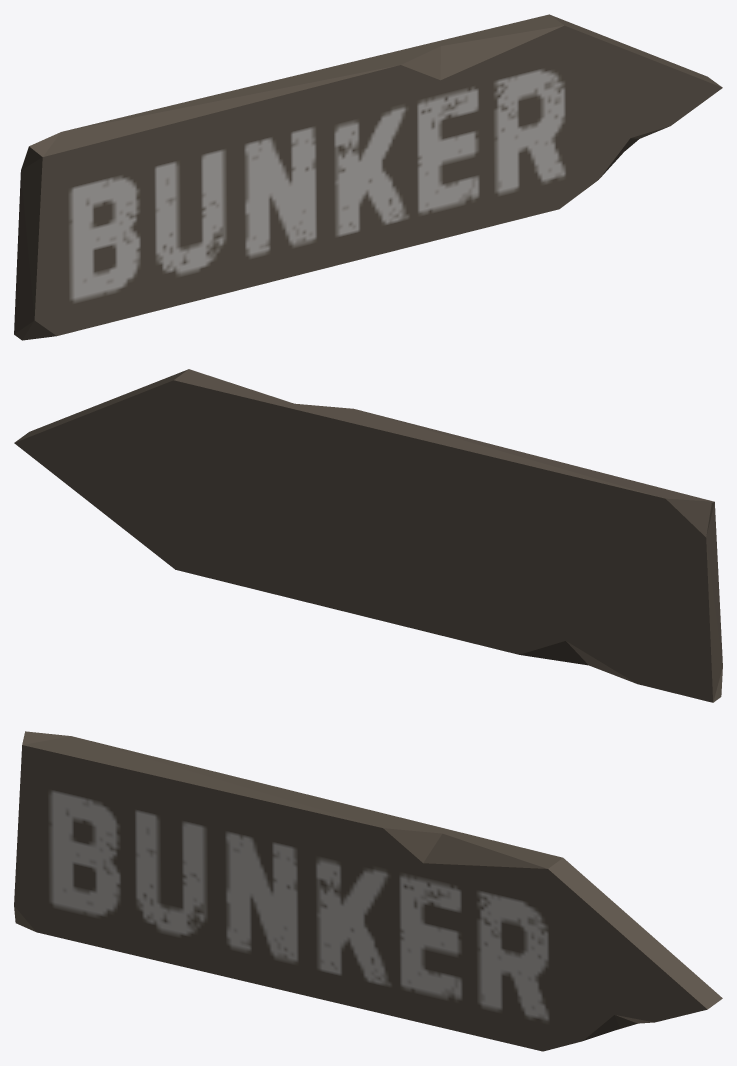
File: Prop_Sign_Schild_05.fbx
The picture shows the model from 3 angles, top to bottom: view 1: azimuth 30°, elevation 25°; view 2: azimuth 150°, elevation 25°; view 3: azimuth 330°, elevation 25°; orthographic projection.
Visible parts, largest first — view 1: Prop_Sign_Schild_05_LOD0; view 2: Prop_Sign_Schild_05_LOD0; view 3: Prop_Sign_Schild_05_LOD0.
Part boxes in pixels (x1=…): Prop_Sign_Schild_05_LOD0: x1=14, y1=14, x2=722, y2=340; Prop_Sign_Schild_05_LOD0: x1=14, y1=369, x2=722, y2=702; Prop_Sign_Schild_05_LOD0: x1=14, y1=731, x2=722, y2=1051.
Size of what is drawn, in the model's own units: 50.91 by 13.41 by 1.93.
